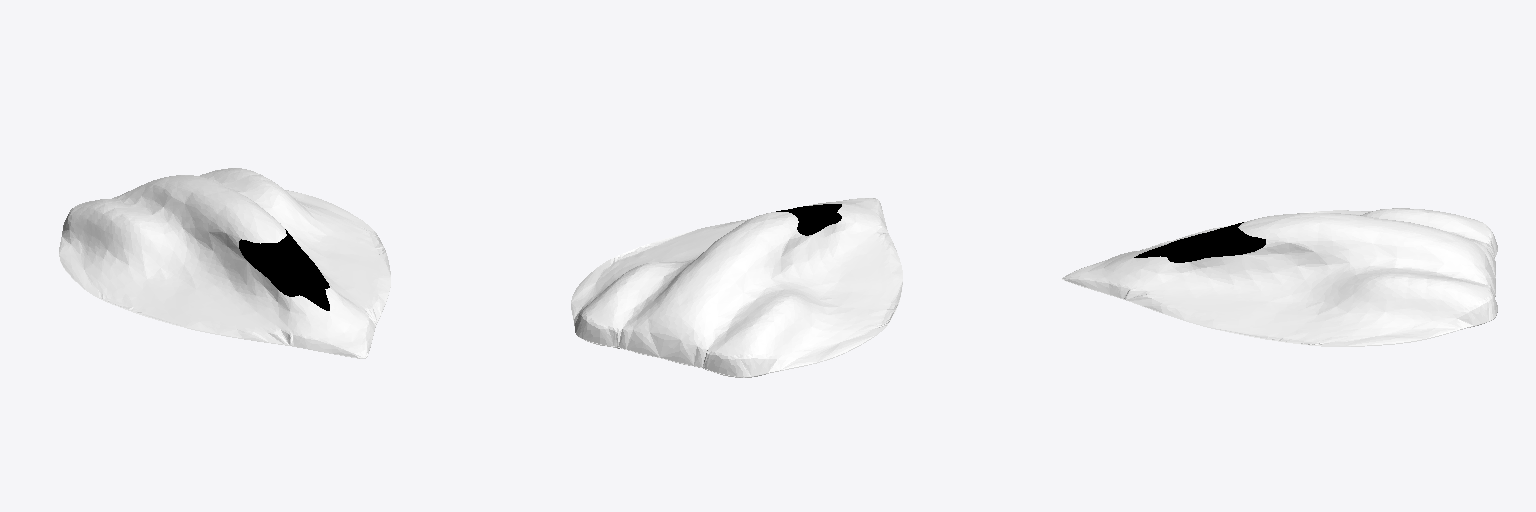
The model's file is alienglyder2.obj.
3 renders of one model, left to right at view 1: azimuth 30°, elevation 25°; view 2: azimuth 150°, elevation 25°; view 3: azimuth 270°, elevation 25°, orthographic.
Visible parts, largest first — view 1: alien_glyder; view 2: alien_glyder; view 3: alien_glyder.
Part boxes in pixels (x1,y1,x2,y2): alien_glyder: (59, 168, 390, 358); alien_glyder: (571, 198, 902, 377); alien_glyder: (1062, 208, 1497, 346).
Size of the model in its own units: 9.29 by 2.49 by 12.61.